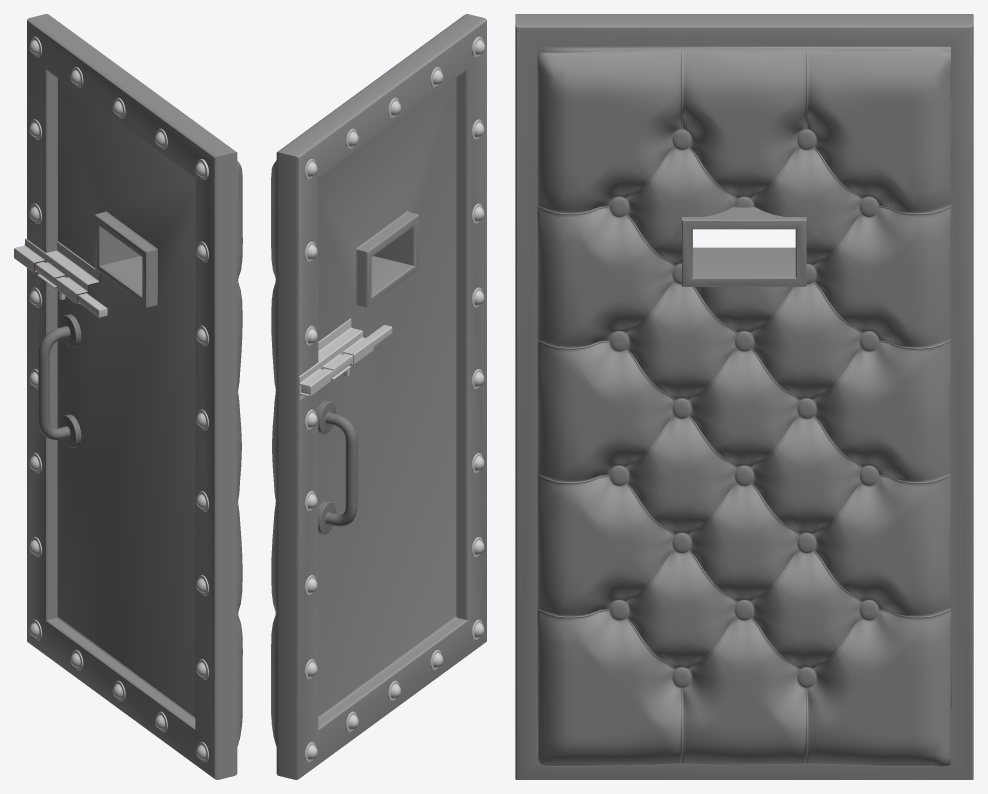
File: Door.FBX
3 views of the same model, side by side, from view 1: azimuth 30°, elevation 25°; view 2: azimuth 150°, elevation 25°; view 3: azimuth 270°, elevation 25° (orthographic). The views are drawn at different scales.
Parts seen in each view (by area): view 1: Backside009, Handle, Lock, Bar; view 2: Backside009, Lock, Handle, Bar; view 3: Backside009.
Boxes of the visible parts, box(x1,y1,x2,y2) form: Backside009: box(27, 14, 242, 779); Handle: box(38, 314, 81, 447); Lock: box(14, 238, 99, 303); Bar: box(35, 261, 107, 317); Backside009: box(271, 14, 486, 779); Lock: box(298, 318, 373, 401); Handle: box(318, 400, 357, 534); Bar: box(301, 325, 392, 394); Backside009: box(515, 14, 973, 779).
Bounding box in the file's own units: 25.09 × 200 × 110.
